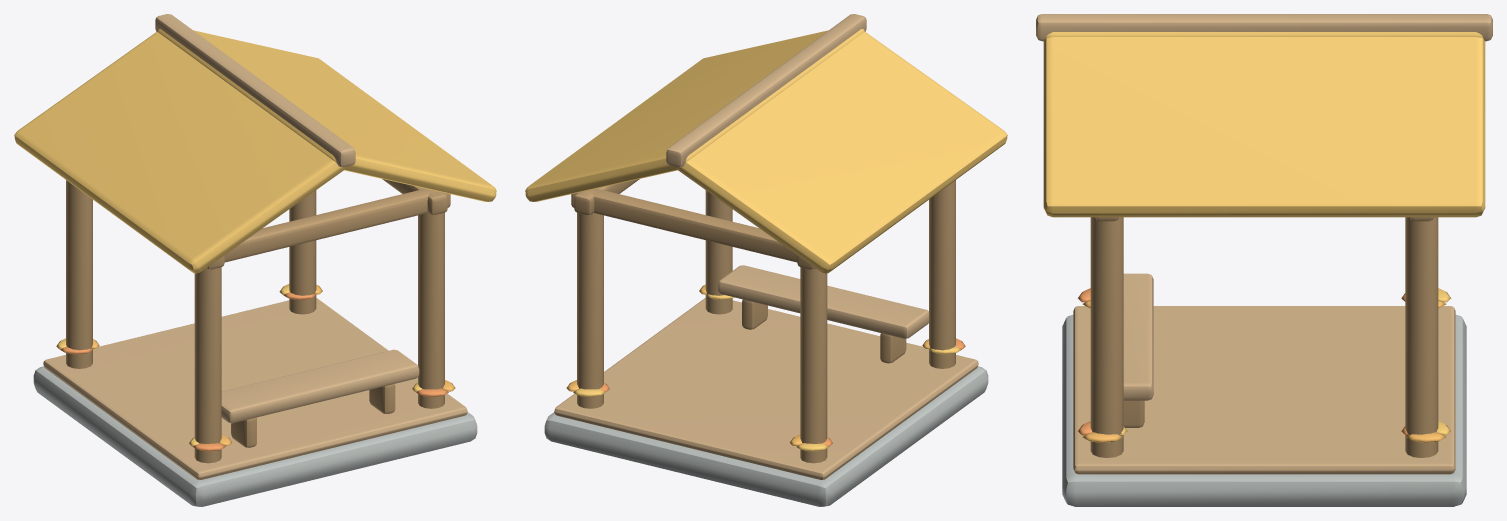
The model's file is gazebo_autumn_v1.glb.
3 views of the same model, side by side, from view 1: azimuth 30°, elevation 25°; view 2: azimuth 150°, elevation 25°; view 3: azimuth 270°, elevation 25° (orthographic). The views are drawn at different scales.
Size of the model in its own units: 2.89 by 3.02 by 3.05.
